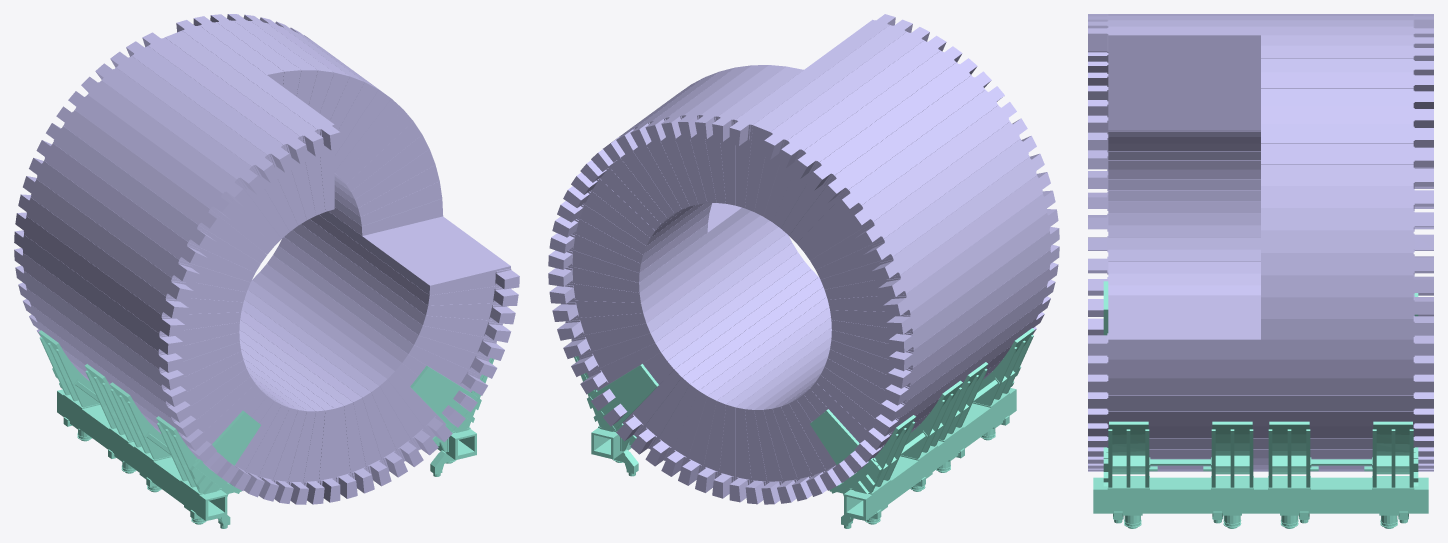
Rendered from Tile-Barrel-cut4.glb.
The picture shows the model from 3 angles, left to right: view 1: azimuth 30°, elevation 25°; view 2: azimuth 150°, elevation 25°; view 3: azimuth 270°, elevation 25°; orthographic projection. The views are drawn at different scales.
Visible parts, largest first — view 1: S_Mesh_1-091, S_Mesh_0-126; view 2: S_Mesh_1-091, S_Mesh_0-126; view 3: S_Mesh_1-091, S_Mesh_0-126.
Part boxes in pixels (x1,y1,x2,y2): S_Mesh_1-091: (14,14,519,504); S_Mesh_0-126: (38,330,494,528); S_Mesh_1-091: (548,14,1059,504); S_Mesh_0-126: (574,328,1034,528); S_Mesh_1-091: (1088,14,1433,471); S_Mesh_0-126: (1093,281,1428,528).
Size of the model in its own units: 8.47 by 8.73 by 6.39.
